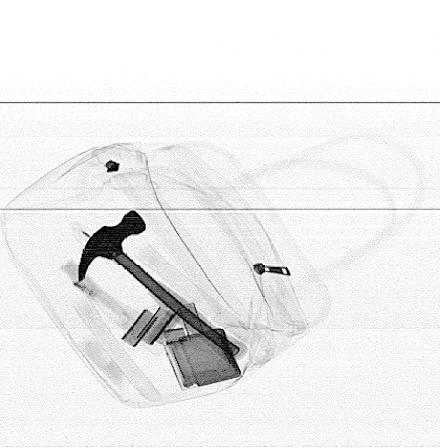Hammer: (77, 207, 249, 365)
